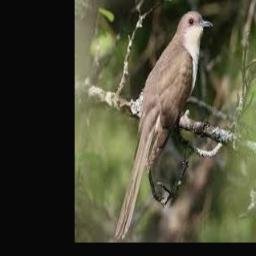Cuckoo: (116, 10, 213, 239)
